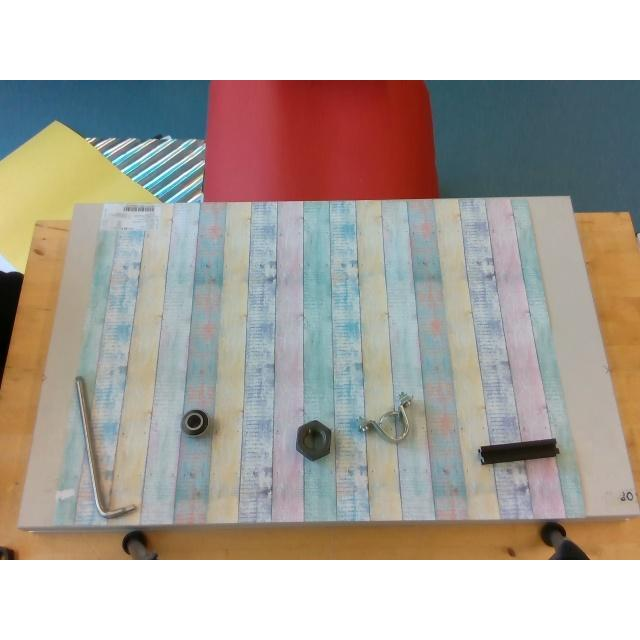AllenKey: (76, 376, 136, 518)
Bearing2: (180, 410, 208, 434)
F20_20_B: (478, 438, 558, 464)
Housing: (360, 392, 412, 442)
M30: (296, 420, 332, 460)
